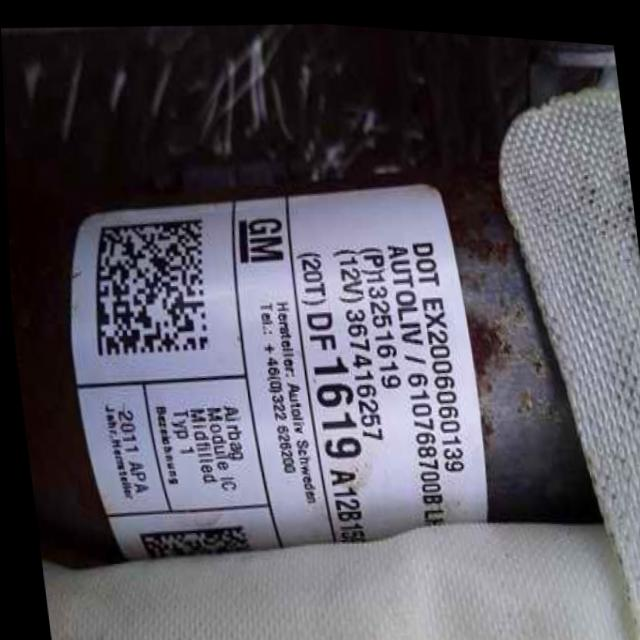datamatrix: (80, 209, 215, 361)
